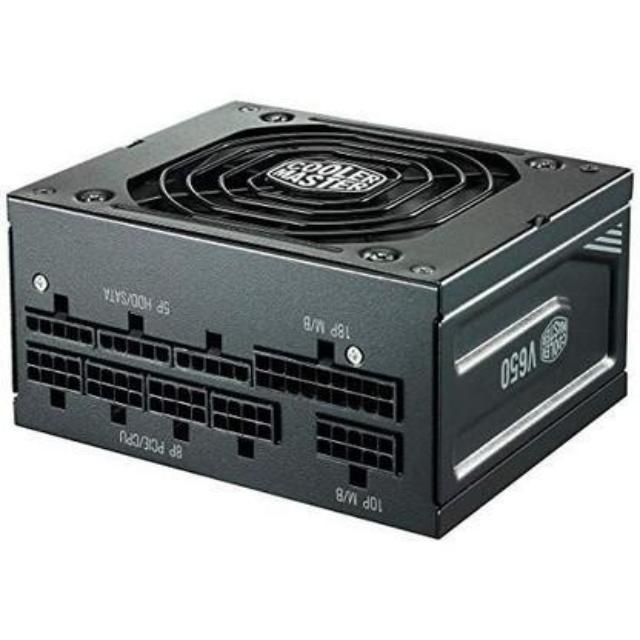PSU: (5, 85, 637, 548)
